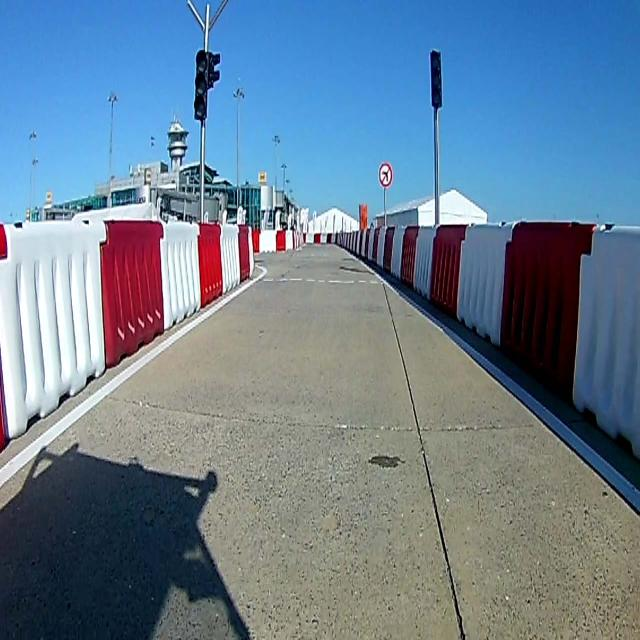soladonulmez: (379, 164, 393, 188)
